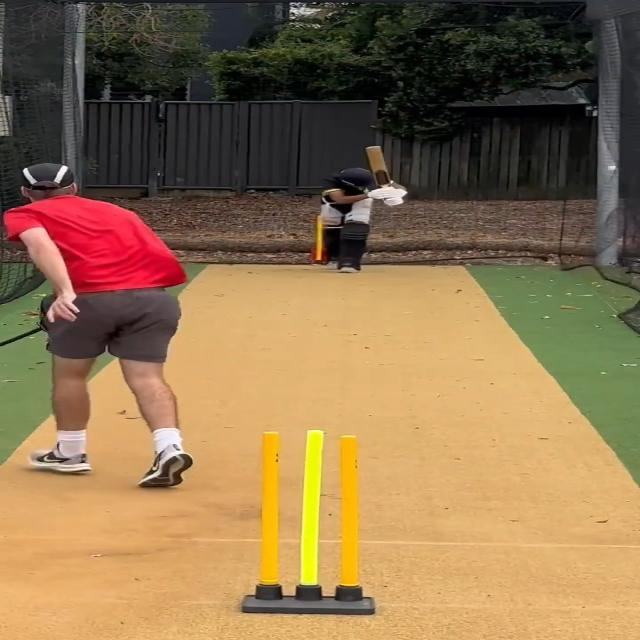stump: (242, 428, 376, 614)
